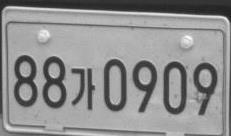0: (162, 60, 187, 115), (102, 58, 127, 112)
8: (12, 53, 38, 107), (41, 55, 67, 109)
9: (131, 59, 158, 113), (192, 61, 218, 116)
가: (70, 67, 95, 111)
